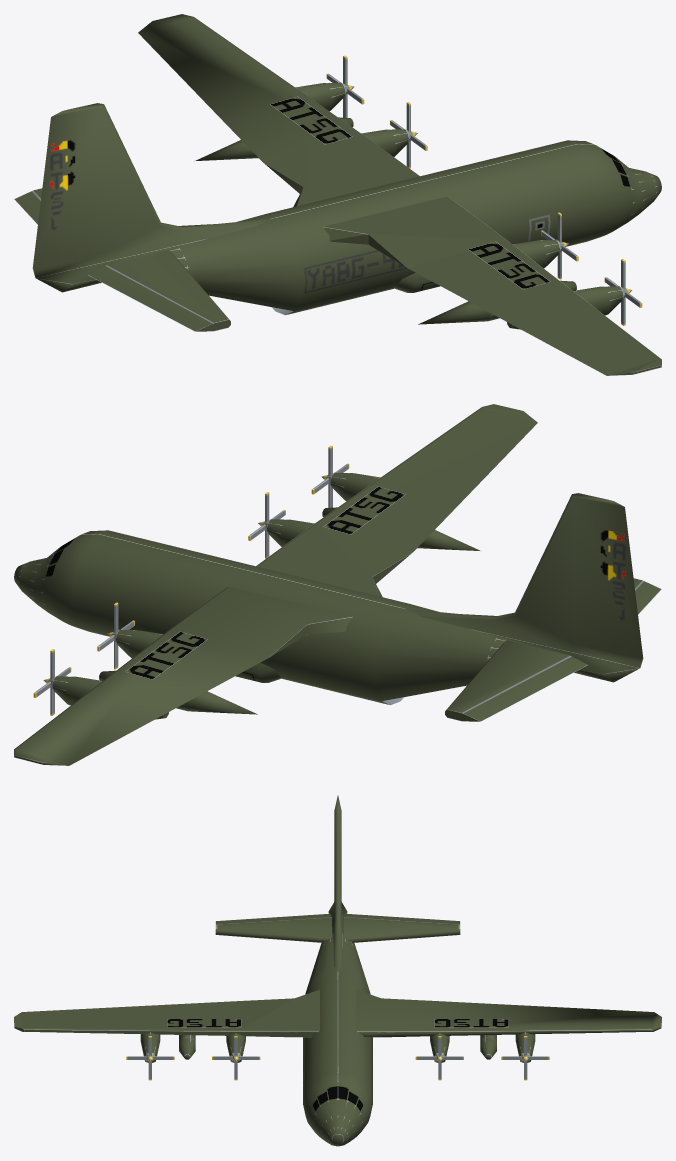
3 views of the same model, one above another, from view 1: azimuth 30°, elevation 25°; view 2: azimuth 150°, elevation 25°; view 3: azimuth 270°, elevation 25° (orthographic). The views are drawn at different scales.
Parts seen in each view (by area): view 1: Plane, Prop4; view 2: Plane, Prop1; view 3: Plane.
Boxes of the visible parts, x1,y1,x2,y2 form: Plane: [14, 14, 661, 375]; Prop4: [604, 259, 642, 325]; Plane: [14, 404, 661, 765]; Prop1: [33, 649, 71, 715]; Plane: [14, 795, 661, 1146].
Size of the model in its own units: 53.32 by 20.61 by 70.97.
